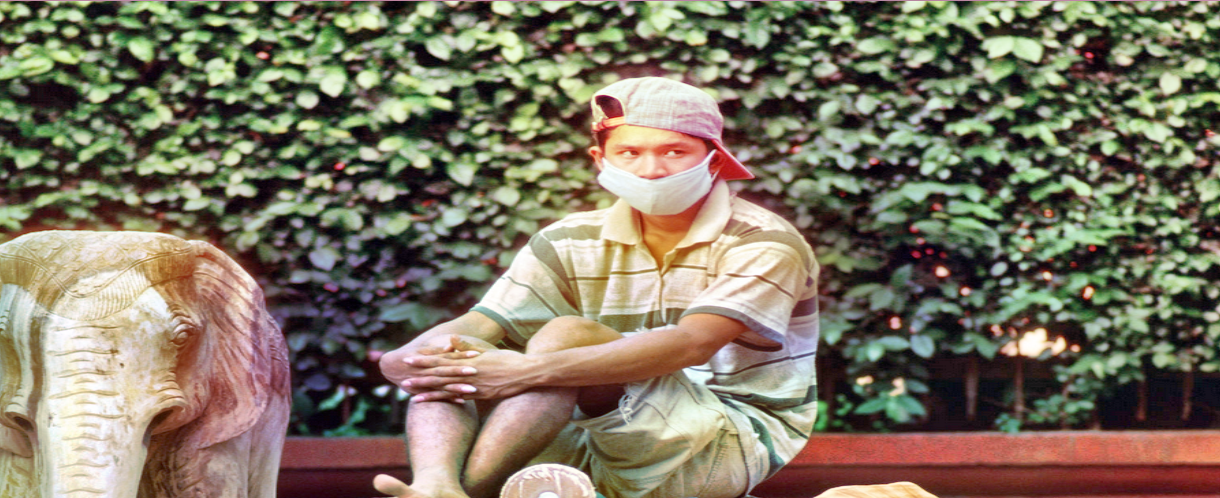mask_weared_incorrect: (582, 75, 745, 227)
